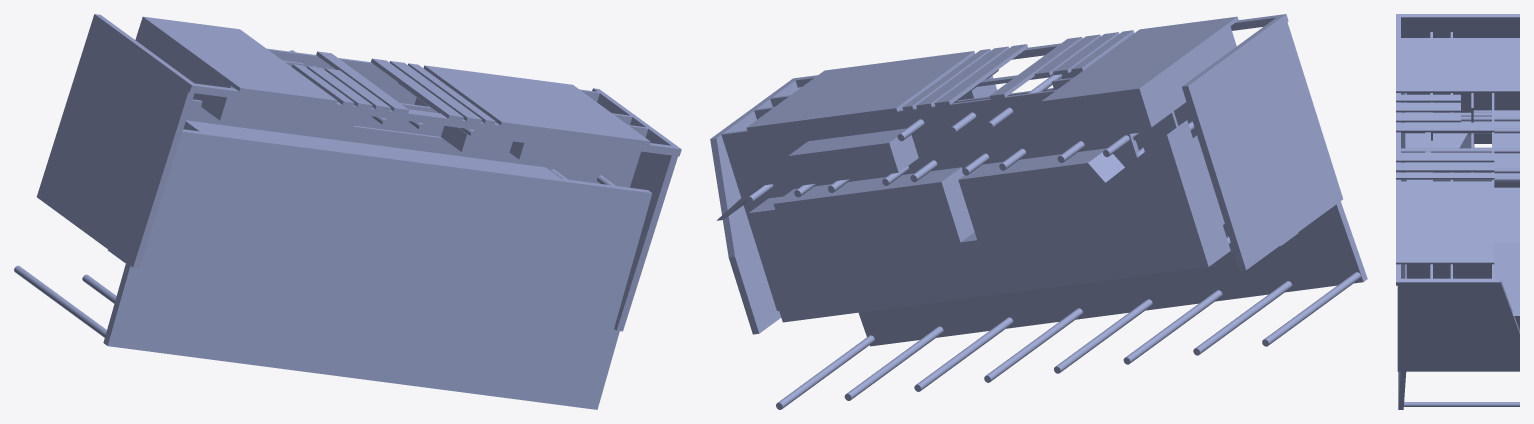
File: sde4.glb
3 views of the same model, side by side, from view 1: azimuth 30°, elevation 25°; view 2: azimuth 150°, elevation 25°; view 3: azimuth 270°, elevation 25° (orthographic). The views are drawn at different scales.
Visible parts, largest first — view 1: SDE4; view 2: SDE4; view 3: SDE4.
Boxes of the visible parts, x1,y1,x2,y2 form: SDE4: (14,14,681,409); SDE4: (710,14,1367,409); SDE4: (1396,14,1519,409).
Bounding box in the file's own units: 85.16 × 60.44 × 25.15.
